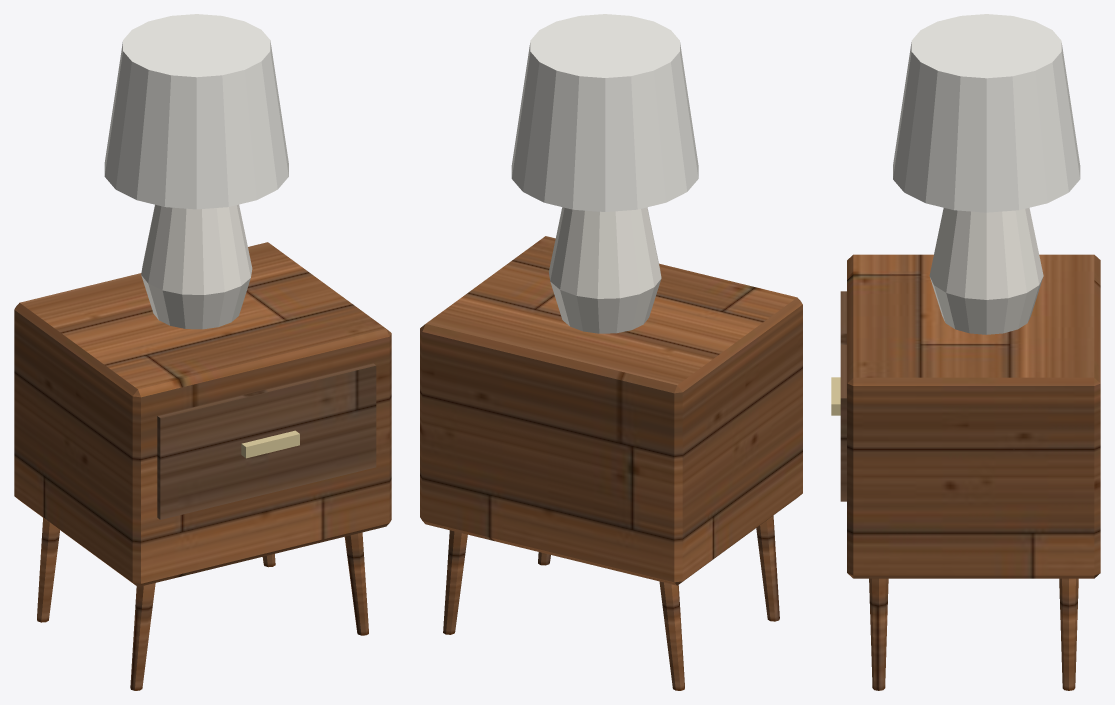
File: nightstand.glb
3 views of the same model, side by side, from view 1: azimuth 30°, elevation 25°; view 2: azimuth 150°, elevation 25°; view 3: azimuth 270°, elevation 25° (orthographic).
Parts seen in each view (by area): view 1: nightstand_teak, nightstand_paper, nightstand_dkwood, nightstand_cream, nightstand_brass; view 2: nightstand_teak, nightstand_paper, nightstand_cream; view 3: nightstand_teak, nightstand_paper, nightstand_cream, nightstand_dkwood.
Boxes of the visible parts, x1=… form: nightstand_teak: x1=14, y1=242, x2=391, y2=690; nightstand_paper: x1=104, y1=14, x2=288, y2=209; nightstand_dkwood: x1=157, y1=363, x2=376, y2=519; nightstand_cream: x1=141, y1=204, x2=252, y2=329; nightstand_brass: x1=241, y1=430, x2=299, y2=458; nightstand_teak: x1=420, y1=236, x2=802, y2=690; nightstand_paper: x1=511, y1=14, x2=698, y2=211; nightstand_cream: x1=549, y1=207, x2=661, y2=333; nightstand_teak: x1=847, y1=254, x2=1100, y2=690; nightstand_paper: x1=893, y1=14, x2=1080, y2=212; nightstand_cream: x1=929, y1=207, x2=1043, y2=334; nightstand_dkwood: x1=840, y1=291, x2=846, y2=501.
Bounding box in the file's own units: 0.48 × 1.02 × 0.425.
Materials: 5 (2 with a texture image).
